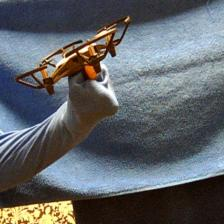drone: (15, 12, 131, 99)
